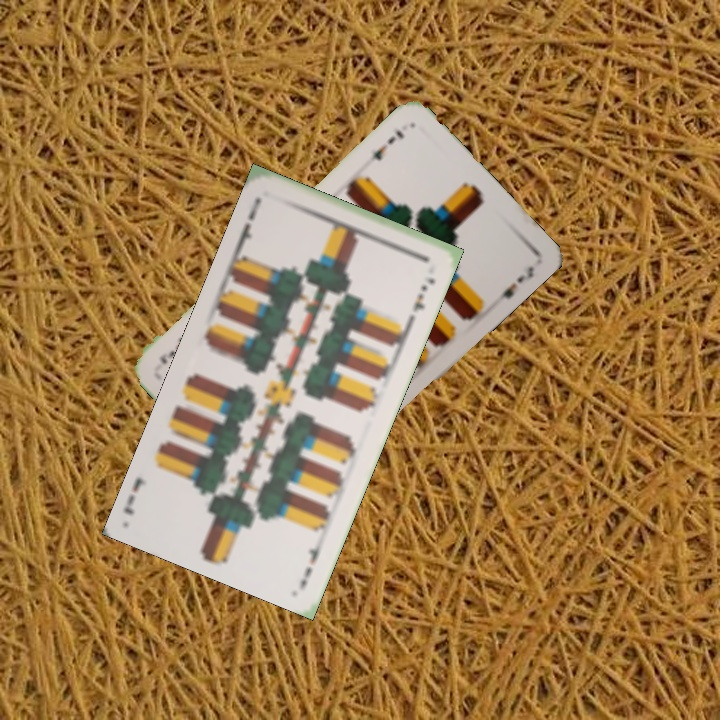E7: (296, 533, 328, 589), (233, 192, 264, 249), (363, 126, 407, 165)
